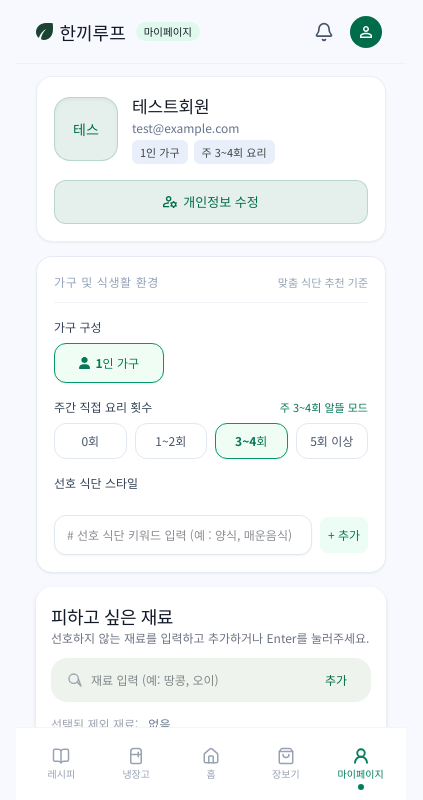
it: keeps drafts on failure and permits retry
Type "오이" into the field named "제외 재료 검색" at (200, 680), box [91,658,309,702]
(page scrolled)
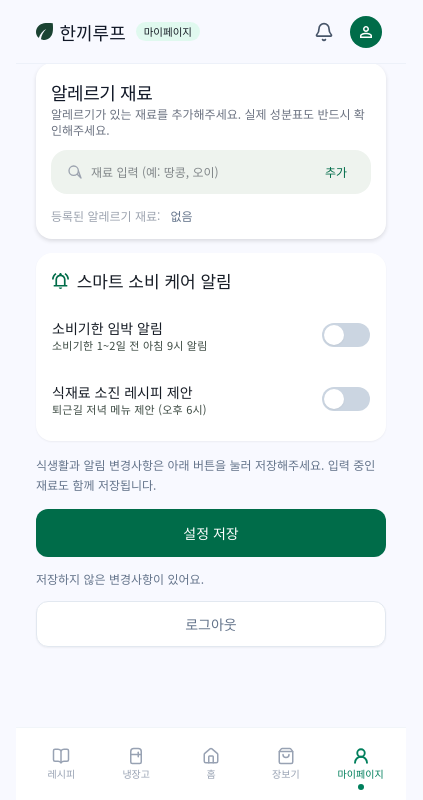
Click the button "설정 저장" at (211, 533), box [36,509,386,557]
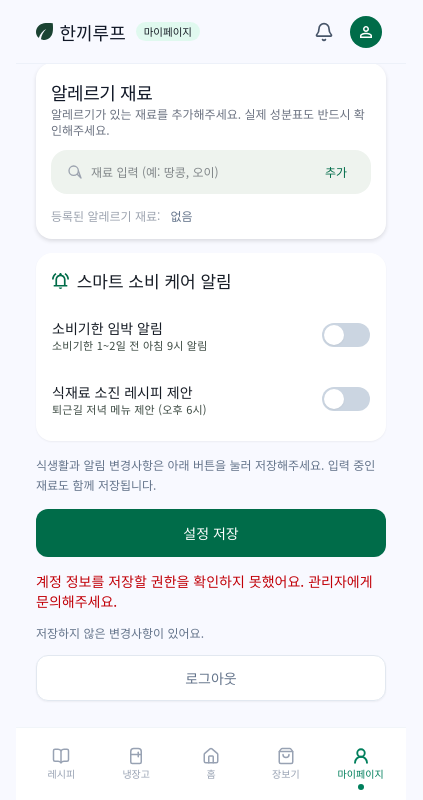
Check: the text "설정을 저장했어요." is not shown
Check: the message "계정 정보를 저장할 권한을 확인하지 못했어요. 관리자에게 문의해주세요." is shown, box [36,571,386,611]
Click the button "설정 저장" at (211, 533), box [36,509,386,557]
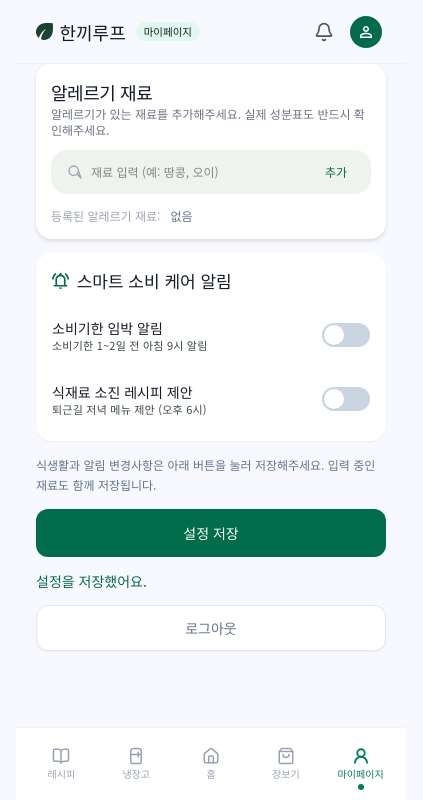
Check: the text "설정을 저장했어요." is shown, box [36,571,147,591]
